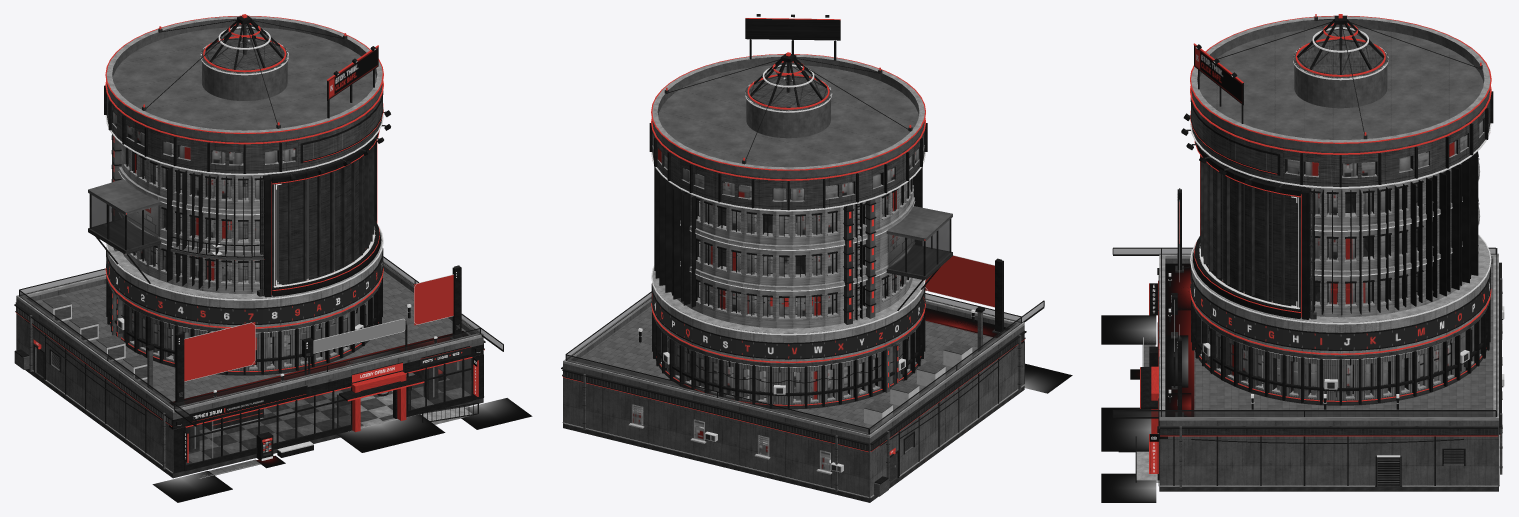
The model's file is cipherdrum-DojekJy3.glb.
3 renders of one model, left to right at view 1: azimuth 30°, elevation 25°; view 2: azimuth 150°, elevation 25°; view 3: azimuth 270°, elevation 25°, orthographic. The views are drawn at different scales.
Parts seen in each view (by area): view 1: body, glass, farBaked, glow, add, sign_cipherA1, sign_cipherA0, sign_fascia_1; view 2: body, farBaked, glow, glass, sign_cipherA1, add, sign_cipherA0; view 3: body, glow, add, farBaked, sign_cipherA0, glass.
Boxes of the visible parts, left/top/right/bottom form: body: left=14, top=15, right=503, bottom=478; glass: left=19, top=195, right=502, bottom=464; farBaked: left=41, top=18, right=471, bottom=458; glow: left=16, top=14, right=484, bottom=478; add: left=152, top=232, right=532, bottom=502; sign_cipherA1: left=106, top=252, right=313, bottom=324; sign_cipherA0: left=314, top=253, right=383, bottom=316; sign_fascia_1: left=190, top=387, right=306, bottom=421; body: left=561, top=14, right=1044, bottom=502; farBaked: left=632, top=56, right=994, bottom=470; glow: left=562, top=18, right=1024, bottom=466; glass: left=566, top=209, right=1043, bottom=434; sign_cipherA1: left=720, top=289, right=925, bottom=358; add: left=925, top=308, right=1072, bottom=393; sign_cipherA0: left=651, top=288, right=719, bottom=350; body: left=1112, top=15, right=1504, bottom=491; glow: left=1140, top=14, right=1497, bottom=473; add: left=1101, top=251, right=1300, bottom=502; farBaked: left=1168, top=45, right=1482, bottom=403; sign_cipherA0: left=1190, top=273, right=1490, bottom=349; glass: left=1113, top=194, right=1495, bottom=416.
Size of the model in its own units: 30.6 by 30.95 by 27.79.
6 materials, 6 textured.
